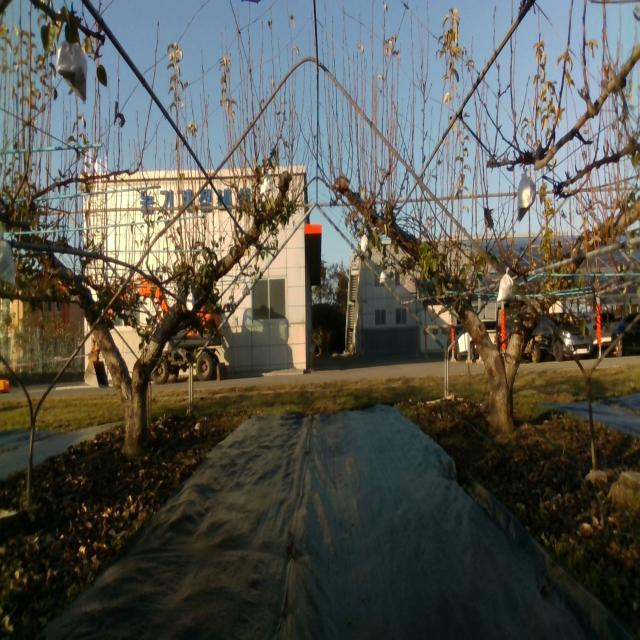pearbags: (56, 38, 90, 103), (518, 170, 536, 222), (0, 227, 16, 284), (495, 266, 513, 303), (259, 170, 274, 196)
